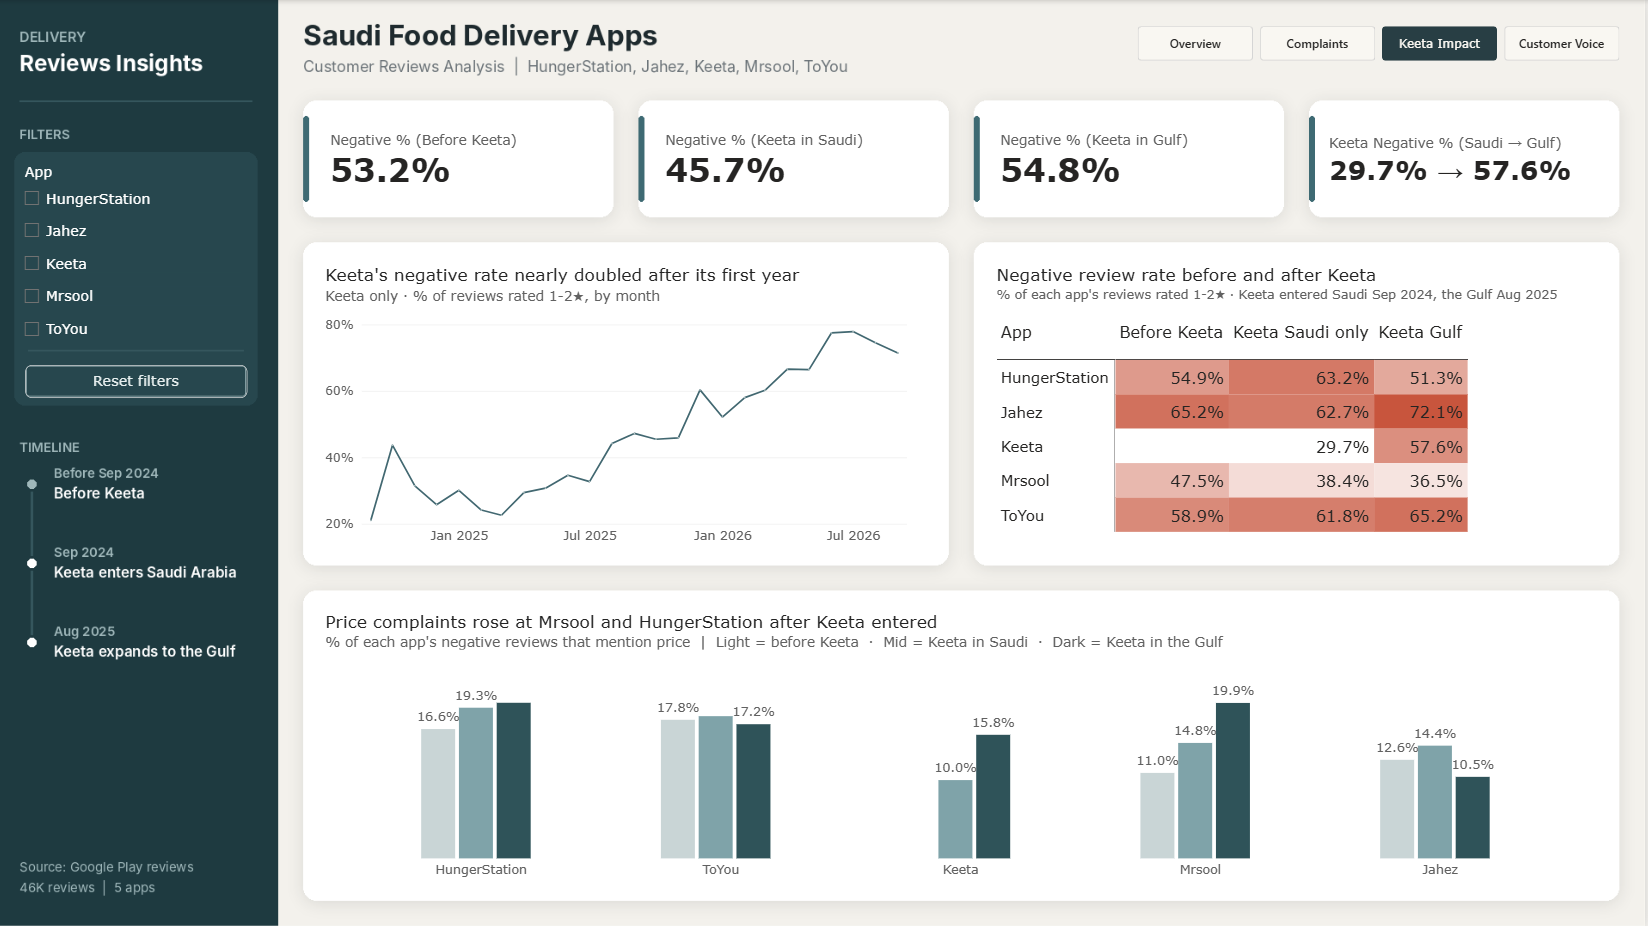

The dashboard page shown, as its layout file describes it:
{"tool":"powerbi","page":{"name":"Keeta Impact","canvas":[1920,1080],"ordinal":2},"visuals":[{"type":"cardVisual","fields":{"Data":["Fact_Reviews.Neg Before Keeta"]},"box":[375,125,335,125],"z":0},{"type":"cardVisual","fields":{"Data":["Fact_Reviews.Neg Keeta Saudi"]},"box":[765,125,335,125],"z":1000},{"type":"cardVisual","fields":{"Data":["Fact_Reviews.Neg Keeta Gulf"]},"box":[1155,125,335,125],"z":2000},{"type":"cardVisual","fields":{"Data":["Fact_Reviews.Keeta Change"]},"box":[1536.7,125,335,125],"z":3000},{"type":"slicer","fields":{"Values":["Dim_App.App"]},"box":[28.3,188.3,260,386.7],"z":4000},{"type":"lineChart","title":"Keeta''s negative rate nearly doubled after its first year","fields":{"Category":["Dim_Date.Month Start"],"Y":["Fact_Reviews.Negative %"]},"box":[370,292,730,360],"z":5000},{"type":"pivotTable","title":"Negative review rate before and after Keeta","fields":{"Columns":["Dim_Date.Keeta Phase"],"Rows":["Dim_App.App"],"Values":["Fact_Reviews.Negative %"]},"box":[1150,292,730,360],"z":6000},{"type":"clusteredColumnChart","title":"Price complaints rose at Mrsool and HungerStation after Keeta entered","fields":{"Category":["Dim_App.App"],"Series":["Dim_Date.Keeta Period"],"Y":["Fact_Reviews.Topic Share"]},"box":[370,697,1510,345],"z":7000},{"type":"actionButton","box":[36,424,258,38],"z":7001},{"type":"pageNavigator","box":[1330,30,560,40],"z":7002}]}

Visuals, with their boxes in screenshot pixels (x1, y1, x2, y2), scaled from the page's 1920x1080 canvas onto the 1648x926 screenshot:
cardVisual - Fact_Reviews.Neg Before Keeta: <region>322, 107, 609, 214</region>
cardVisual - Fact_Reviews.Neg Keeta Saudi: <region>657, 107, 944, 214</region>
cardVisual - Fact_Reviews.Neg Keeta Gulf: <region>991, 107, 1279, 214</region>
cardVisual - Fact_Reviews.Keeta Change: <region>1319, 107, 1607, 214</region>
slicer - Dim_App.App: <region>24, 161, 247, 493</region>
"Keeta''s negative rate nearly doubled after its first year" lineChart: <region>318, 250, 944, 559</region>
"Negative review rate before and after Keeta" pivotTable: <region>987, 250, 1614, 559</region>
"Price complaints rose at Mrsool and HungerStation after Keeta entered" clusteredColumnChart: <region>318, 598, 1614, 893</region>
actionButton: <region>31, 364, 252, 396</region>
pageNavigator: <region>1142, 26, 1622, 60</region>
